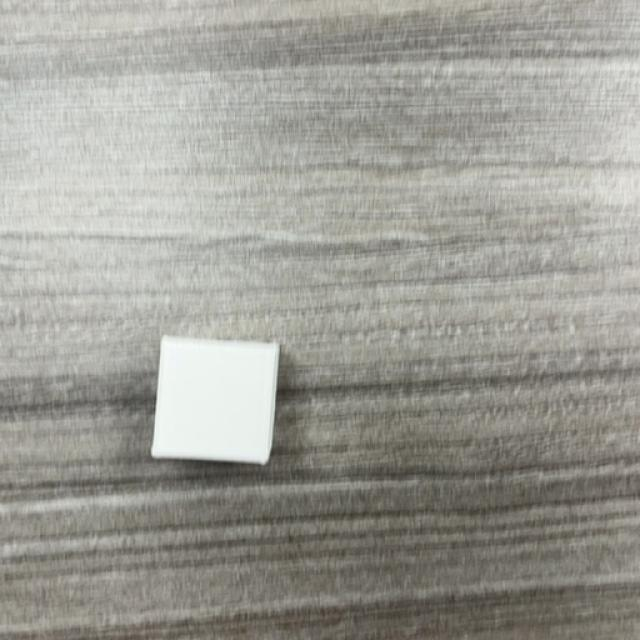Blanco: (150, 336, 281, 468)
